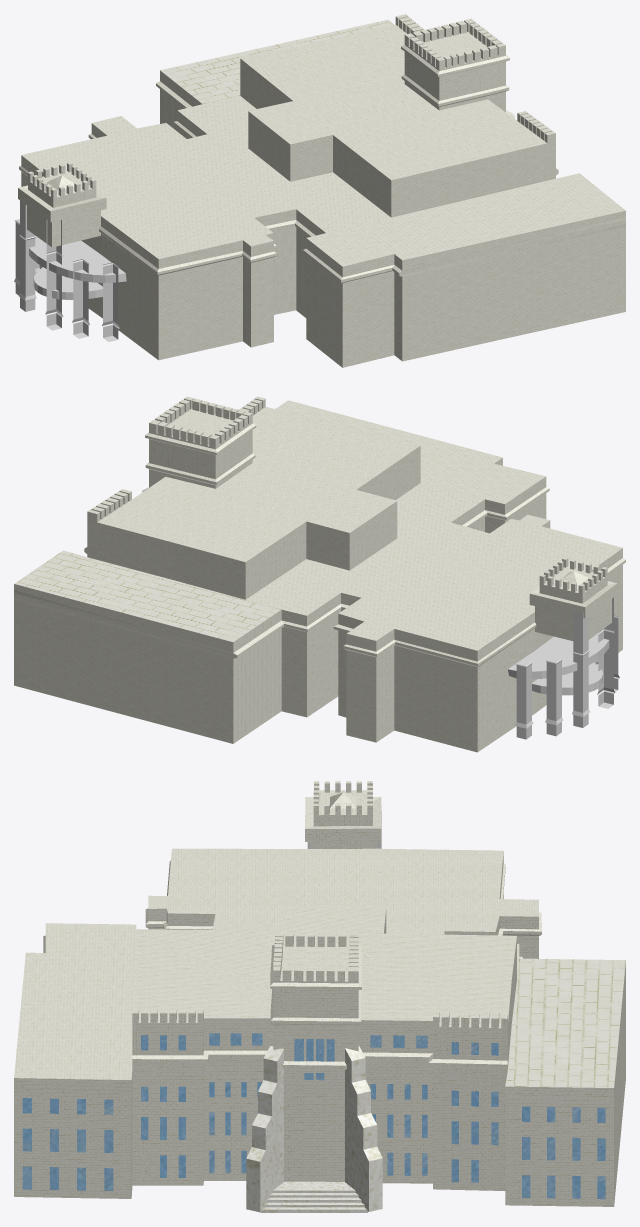
The model's file is BradleyHallExtTexturedV6.gltf.
3 views of the same model, one above another, from view 1: azimuth 30°, elevation 25°; view 2: azimuth 150°, elevation 25°; view 3: azimuth 270°, elevation 25° (orthographic). The views are drawn at different scales.
Visible parts, largest first — view 1: Bradley Hall, Back Pillars, Canopies; view 2: Bradley Hall, Back Pillars, Canopies; view 3: Bradley Hall, Front Pillars, Staircase.
Part boxes in pixels (<box>): Bradley Hall: <box>18,14,625,367</box>; Back Pillars: <box>14,200,119,341</box>; Canopies: <box>29,236,126,299</box>; Bradley Hall: <box>14,396,625,752</box>; Back Pillars: <box>515,597,619,739</box>; Canopies: <box>507,633,609,695</box>; Bradley Hall: <box>14,781,625,1206</box>; Front Pillars: <box>246,1045,382,1212</box>; Staircase: <box>260,1181,367,1212</box>.
Bounding box in the file's own units: 81.9 × 31.26 × 77.5.
5 materials, 4 textured.
